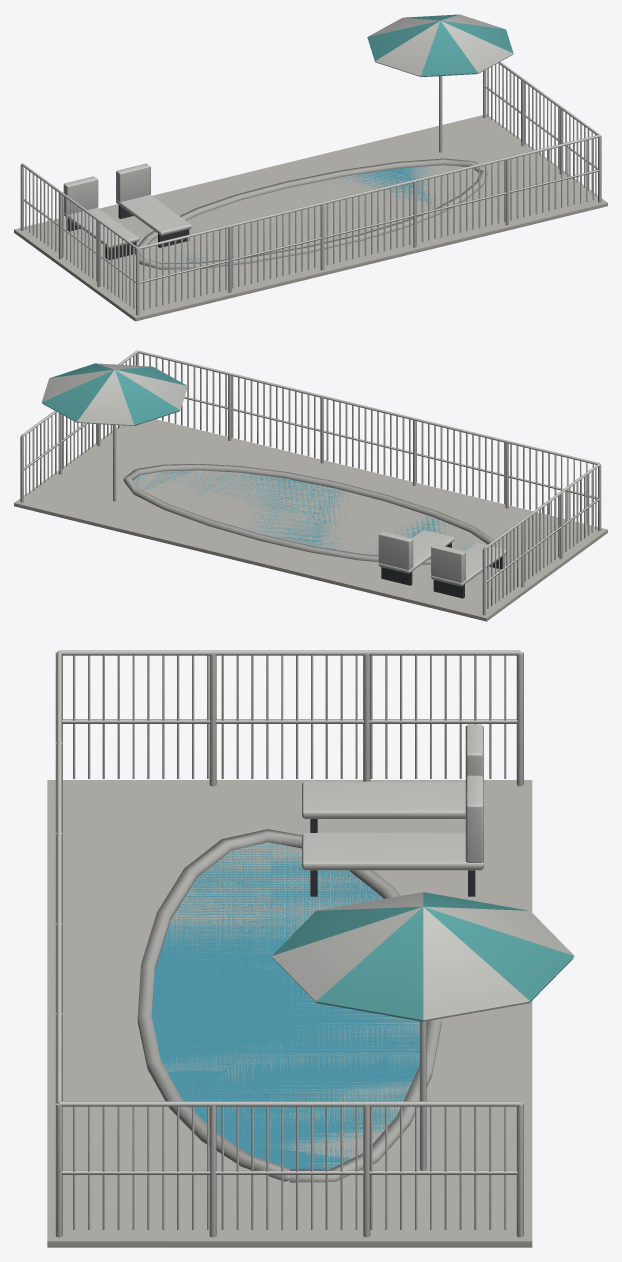
Rendered from MotelPoolFL.fbx.
3 views of the same model, one above another, from view 1: azimuth 30°, elevation 25°; view 2: azimuth 150°, elevation 25°; view 3: azimuth 270°, elevation 25° (orthographic). The views are drawn at different scales.
Visible parts, largest first — view 1: MotelPoolFL; view 2: MotelPoolFL; view 3: MotelPoolFL.
Part boxes in pixels (<box>): MotelPoolFL: <box>14,14,607,321</box>; MotelPoolFL: <box>14,350,607,621</box>; MotelPoolFL: <box>47,650,574,1247</box>.
Size of the model in its own units: 9 by 2.45 by 4.35.
